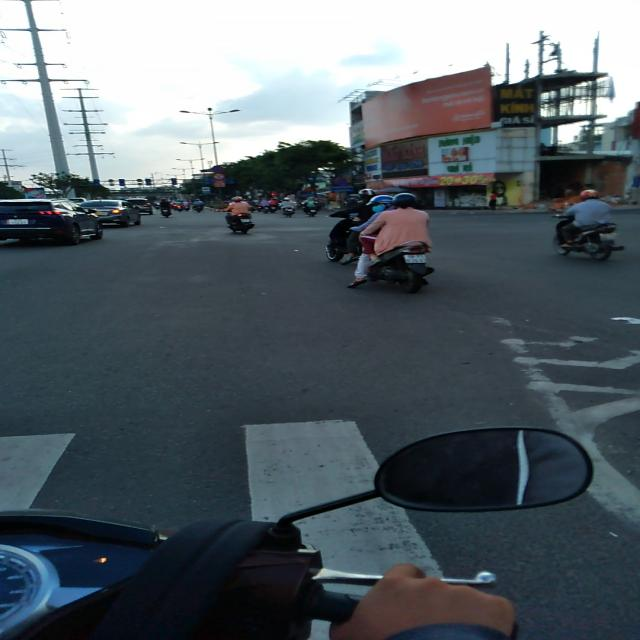Cam con lai: (211, 173, 226, 180)
Cam do: (210, 165, 226, 173), (333, 178, 351, 185)
Hieu lenh: (202, 186, 212, 194)
